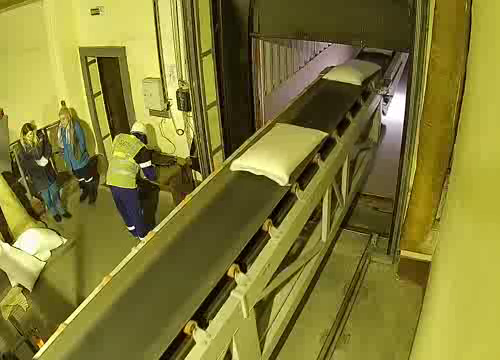bag: (229, 121, 329, 186), (322, 60, 382, 87), (363, 48, 393, 57)
